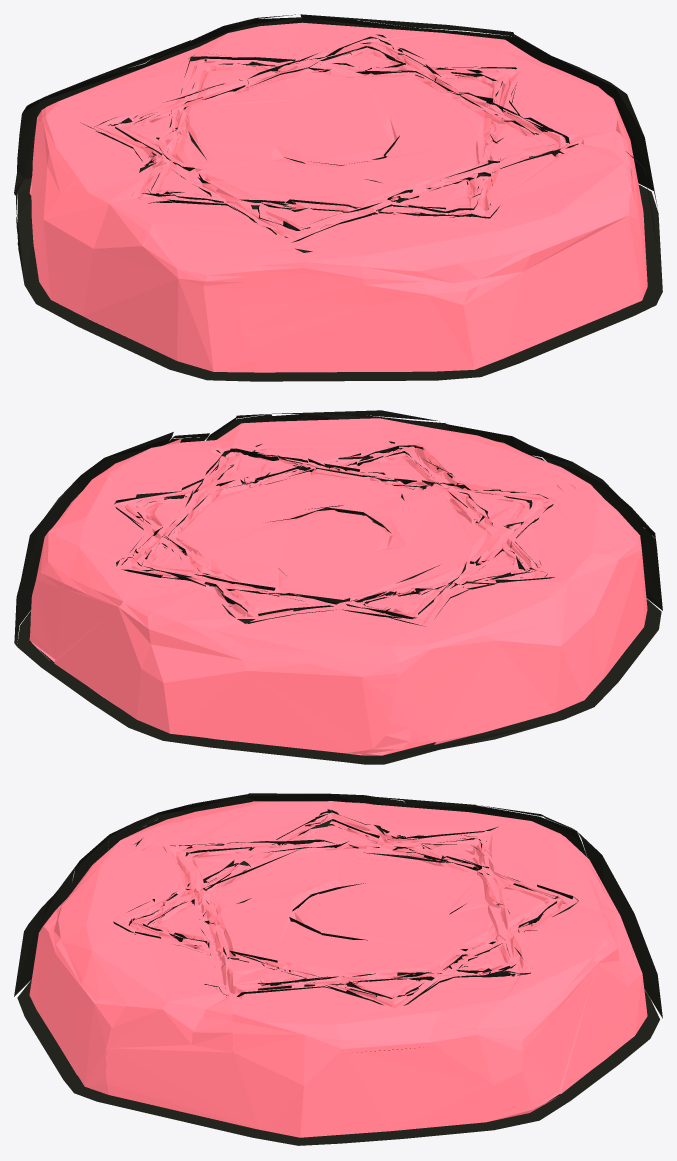
Rendered from df_v2_content_plot_marker_b_a.glb.
3 views of the same model, one above another, from view 1: azimuth 30°, elevation 25°; view 2: azimuth 150°, elevation 25°; view 3: azimuth 270°, elevation 25° (orthographic). The views are drawn at different scales.
Parts seen in each view (by area): view 1: content_plot_marker_b_mesh_01, content_plot_marker_b_mesh_01_ink_outline; view 2: content_plot_marker_b_mesh_01, content_plot_marker_b_mesh_01_ink_outline; view 3: content_plot_marker_b_mesh_01, content_plot_marker_b_mesh_01_ink_outline.
Part boxes in pixels (x1,y1,x2,y2): content_plot_marker_b_mesh_01: (29,22,647,372); content_plot_marker_b_mesh_01_ink_outline: (14,14,662,381); content_plot_marker_b_mesh_01: (29,418,647,755); content_plot_marker_b_mesh_01_ink_outline: (14,410,662,764); content_plot_marker_b_mesh_01: (29,801,647,1137); content_plot_marker_b_mesh_01_ink_outline: (14,793,662,1145).
Size of the model in its own units: 0.6207 by 0.1129 by 0.6302.
